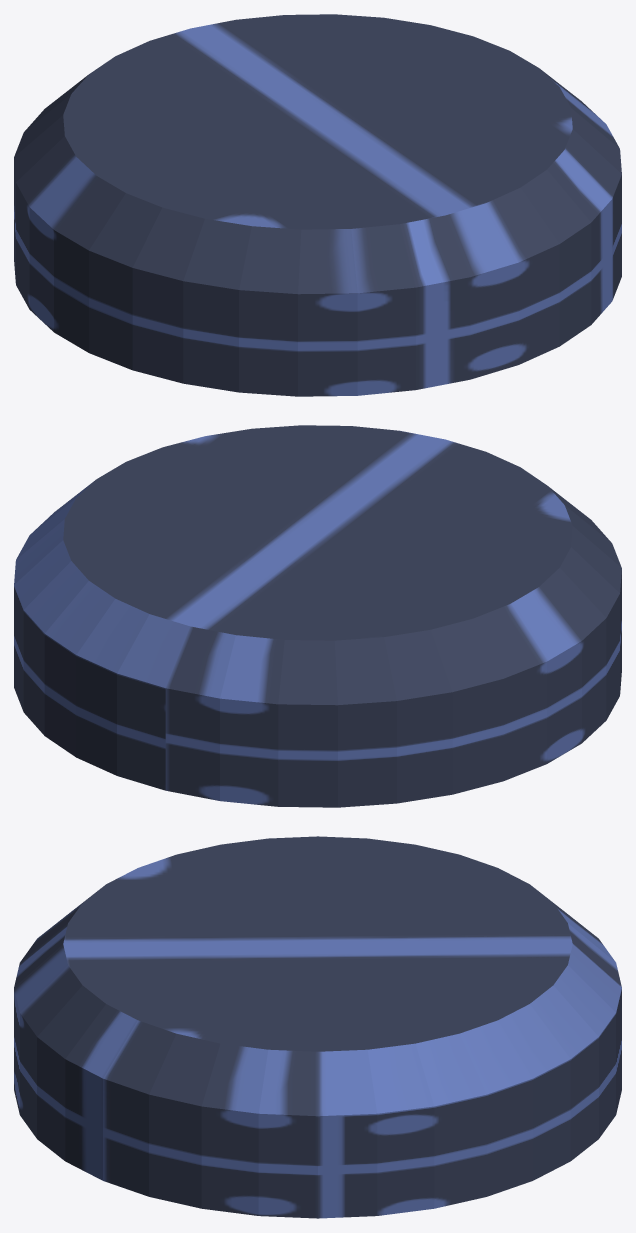
File: 3D button round part.fbx
3 renders of one model, top to bottom at view 1: azimuth 30°, elevation 25°; view 2: azimuth 150°, elevation 25°; view 3: azimuth 270°, elevation 25°, orthographic.
Visible parts, largest first — view 1: Cylinder; view 2: Cylinder; view 3: Cylinder.
Boxes of the visible parts, x1,y1,x2,y2 form: Cylinder: (14,14,621,396); Cylinder: (14,425,621,807); Cylinder: (14,836,621,1218).
Bounding box in the file's own units: 64.75 × 17.15 × 64.75.
